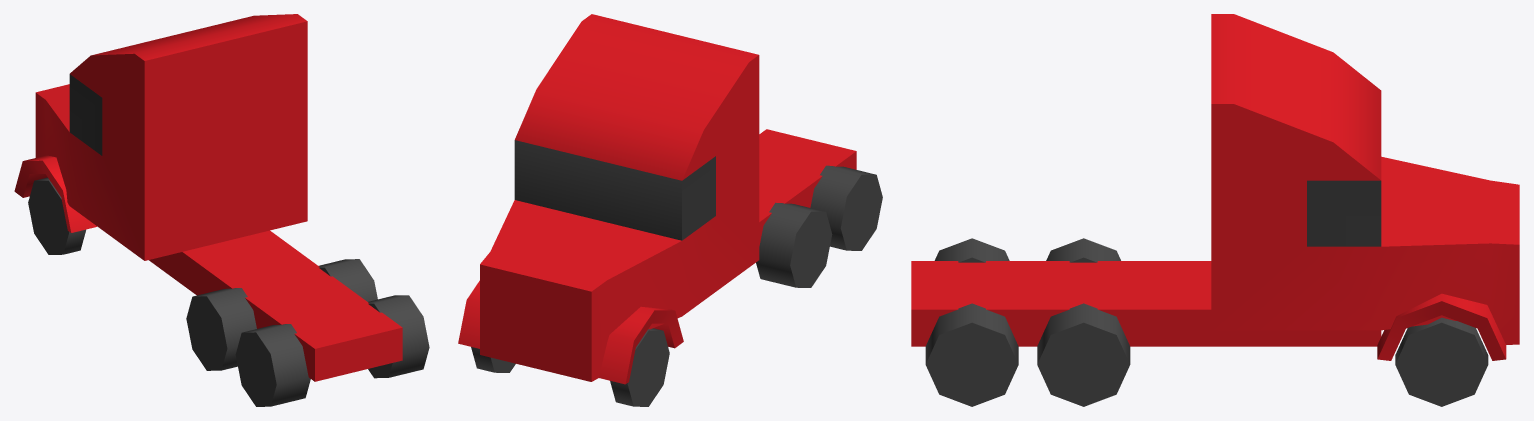
Rendered from oga_18wheeler_tehbucket__tractor_v0.2.glb.
3 views of the same model, side by side, from view 1: azimuth 30°, elevation 25°; view 2: azimuth 150°, elevation 25°; view 3: azimuth 270°, elevation 25° (orthographic). The views are drawn at different scales.
Parts seen in each view (by area): view 1: 18wheeler; view 2: 18wheeler; view 3: 18wheeler.
Boxes of the visible parts, x1,y1,x2,y2 form: 18wheeler: (14, 14, 429, 406); 18wheeler: (458, 14, 882, 406); 18wheeler: (911, 14, 1519, 406).
Bounding box in the file's own units: 2.59 × 4.1 × 7.39.
